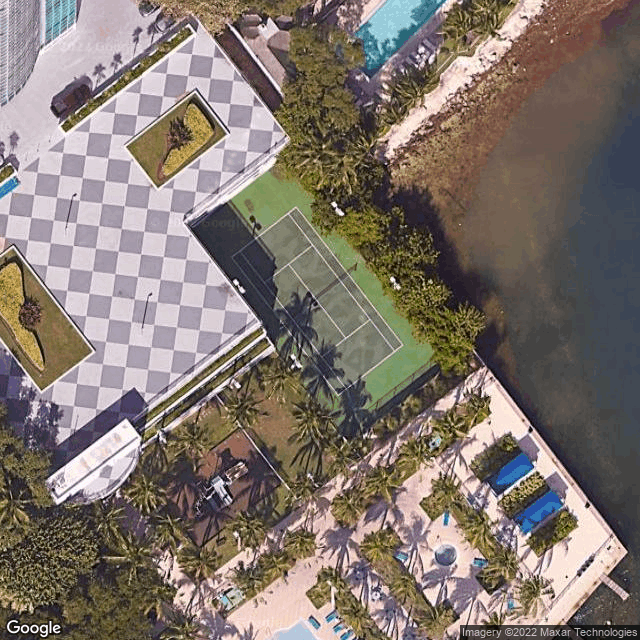Court: (231, 206, 404, 398)
